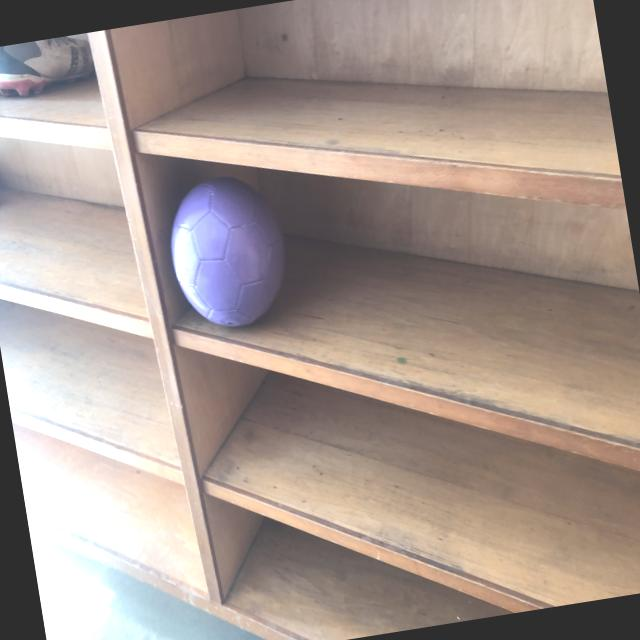purple_ball: (160, 172, 296, 336)
